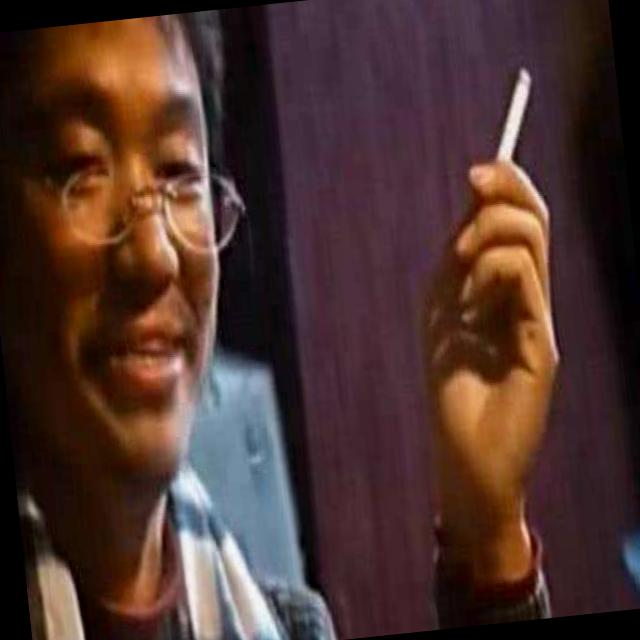cigarette: (482, 68, 540, 164)
